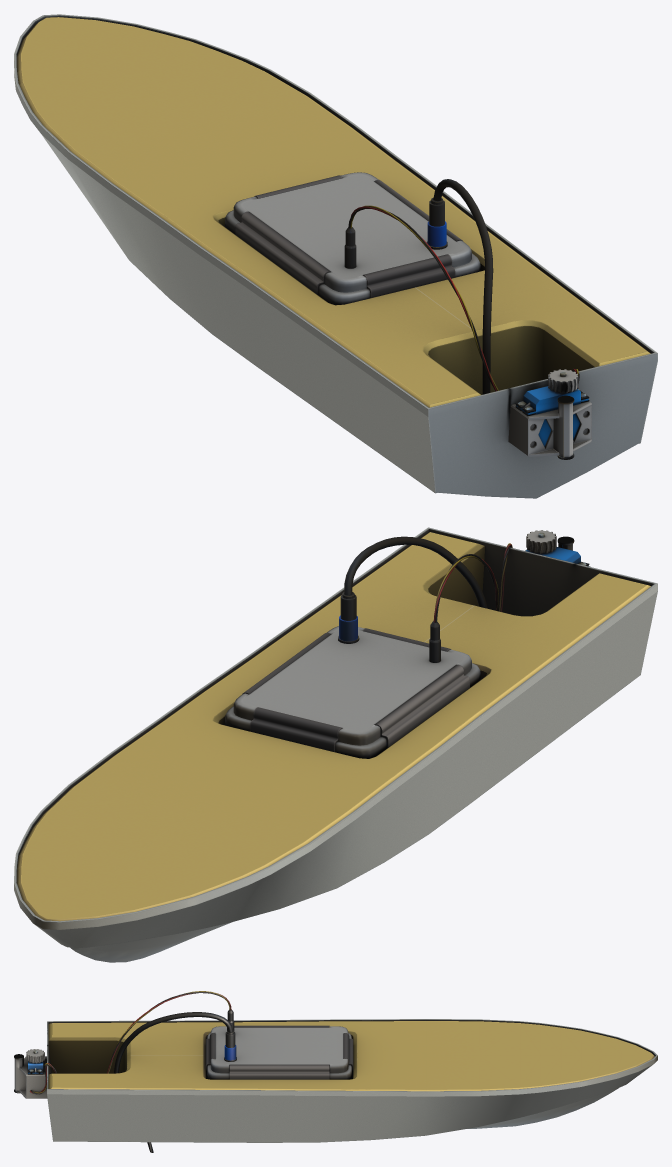
The model's file is sandwich.dae.
3 views of the same model, one above another, from view 1: azimuth 30°, elevation 25°; view 2: azimuth 150°, elevation 25°; view 3: azimuth 270°, elevation 25° (orthographic). The views are drawn at different scales.
Parts seen in each view (by area): view 1: Boat; view 2: Boat; view 3: Boat.
Part boxes in pixels (<box>): Boat: <box>14,14,657,498</box>; Boat: <box>14,527,657,962</box>; Boat: <box>14,991,657,1152</box>.
Bounding box in the file's own units: 22.71 × 84.72 × 22.25.
Materials: 1 (1 with a texture image).
